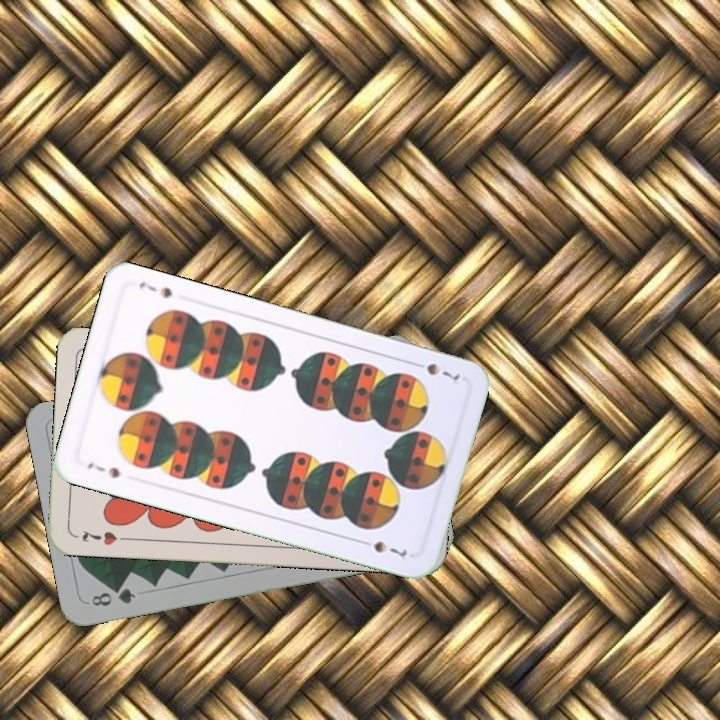G8: (87, 584, 139, 609)
H7: (78, 527, 131, 548)
S7: (407, 357, 463, 383), (83, 458, 123, 481)
